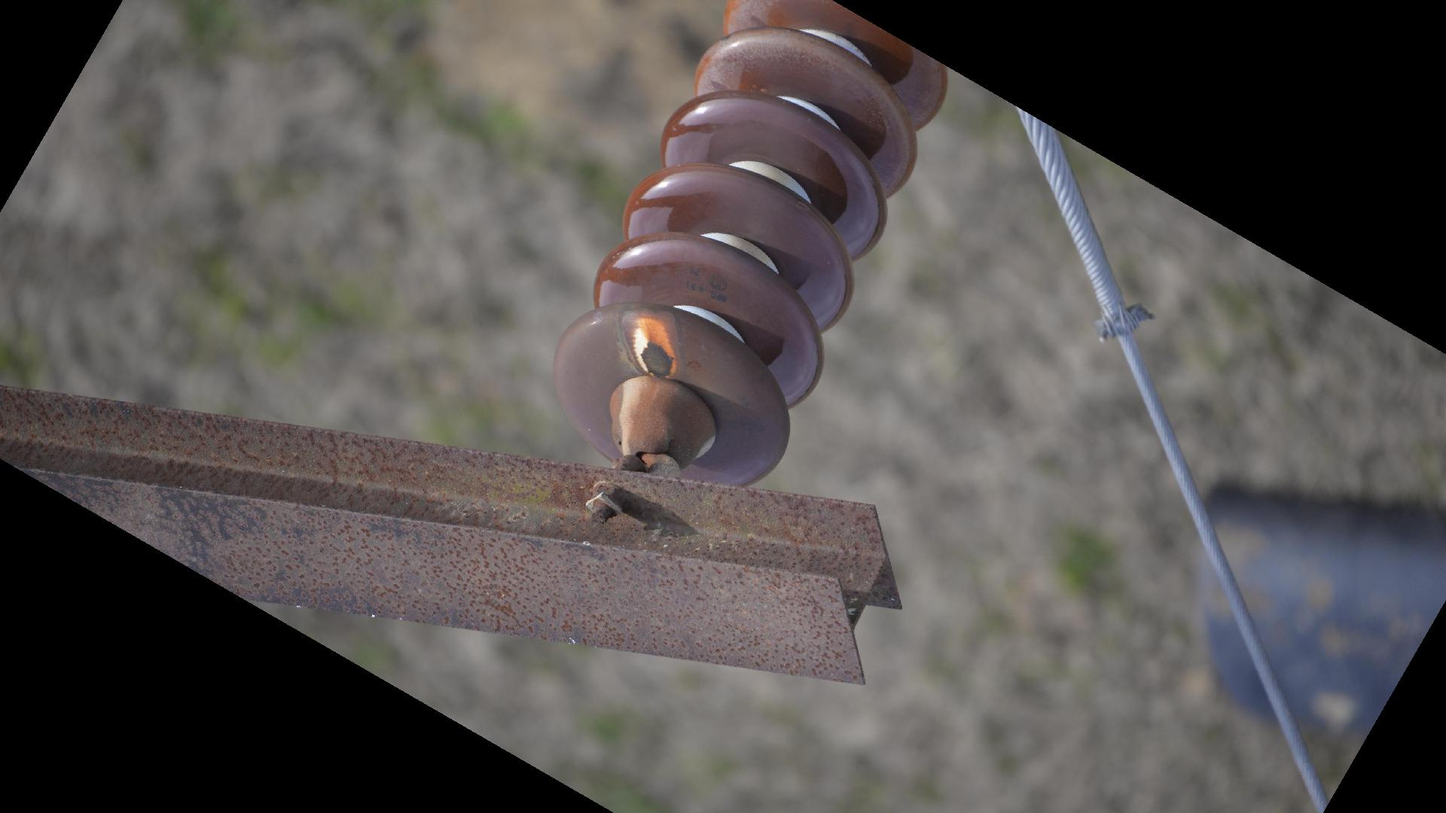insulator: (545, 1, 955, 495)
insulator_flashover: (619, 306, 684, 382)
